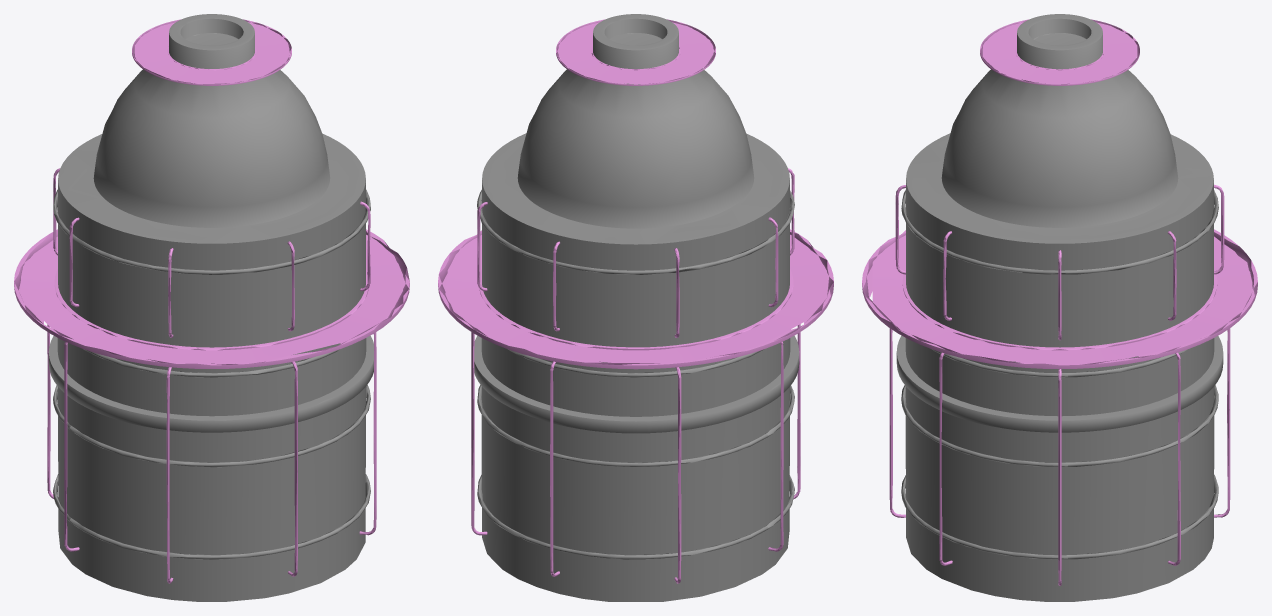
The model's file is main_IceTank_LOD1.fbx.
3 views of the same model, side by side, from view 1: azimuth 30°, elevation 25°; view 2: azimuth 150°, elevation 25°; view 3: azimuth 270°, elevation 25° (orthographic).
Visible parts, largest first — view 1: main_IceTank_LOD1 (×2); view 2: main_IceTank_LOD1 (×2); view 3: main_IceTank_LOD1 (×2).
Part boxes in pixels (box(x1,y1,x2,y2)): main_IceTank_LOD1 (×2): box(14, 14, 409, 601); main_IceTank_LOD1 (×2): box(438, 14, 833, 601); main_IceTank_LOD1 (×2): box(862, 14, 1257, 601).
Size of the model in its own units: 32.81 by 46.27 by 32.81.
